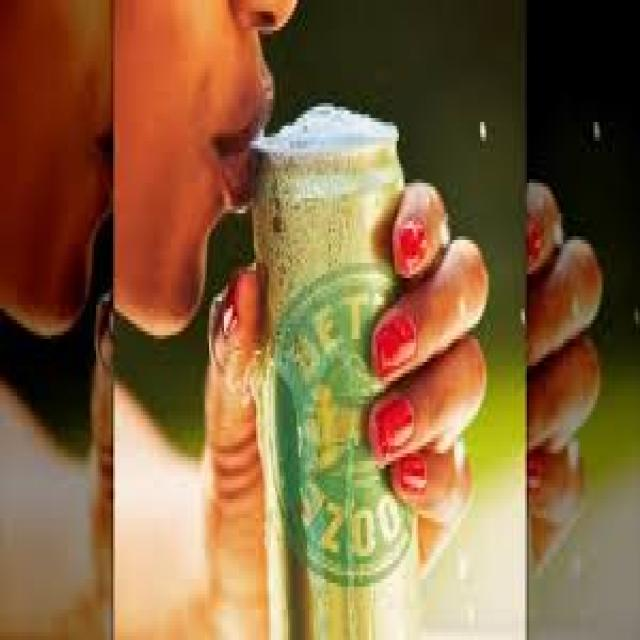Cans: (245, 118, 429, 636)
